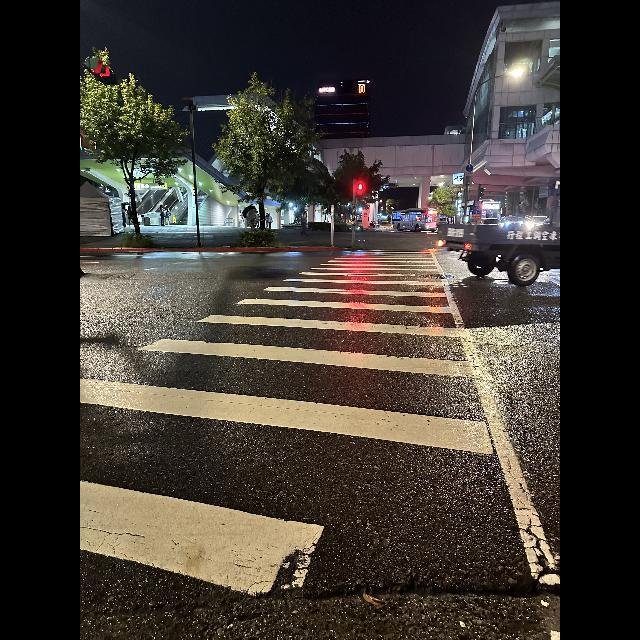sidewalk: (81, 249, 521, 596)
